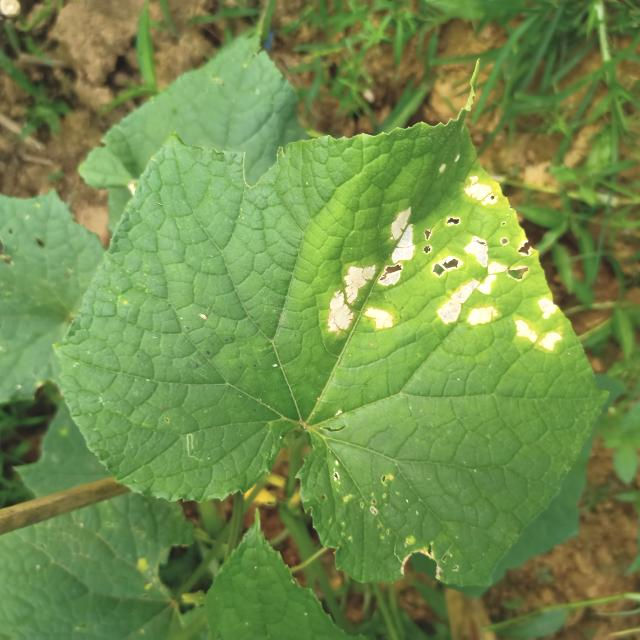disease_cucumber: (314, 152, 576, 354)
